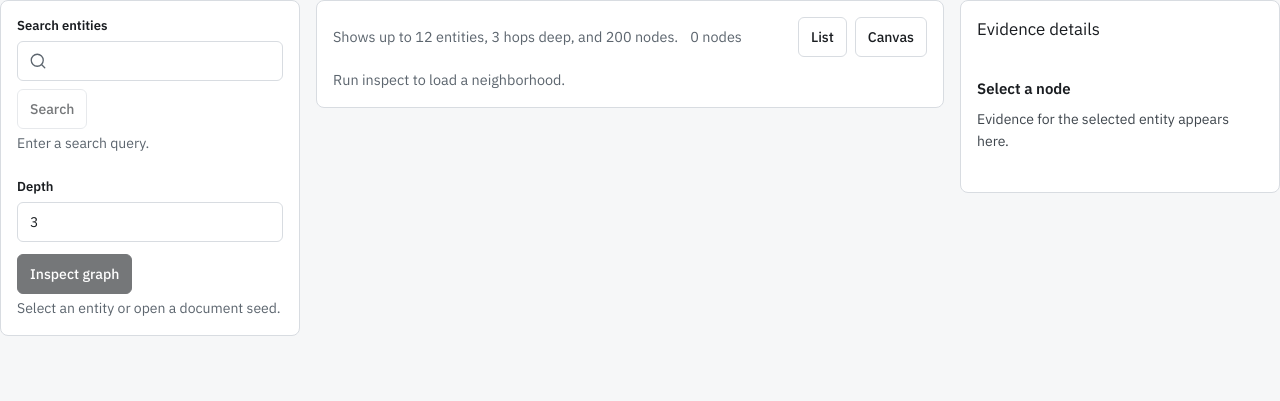
Test: GraphExplorer › shows empty inspect copy and truthful bounds
Type "acme" into the field labelled "Search entities".
click(150, 61); type("acme")  # box [17, 41, 283, 81]
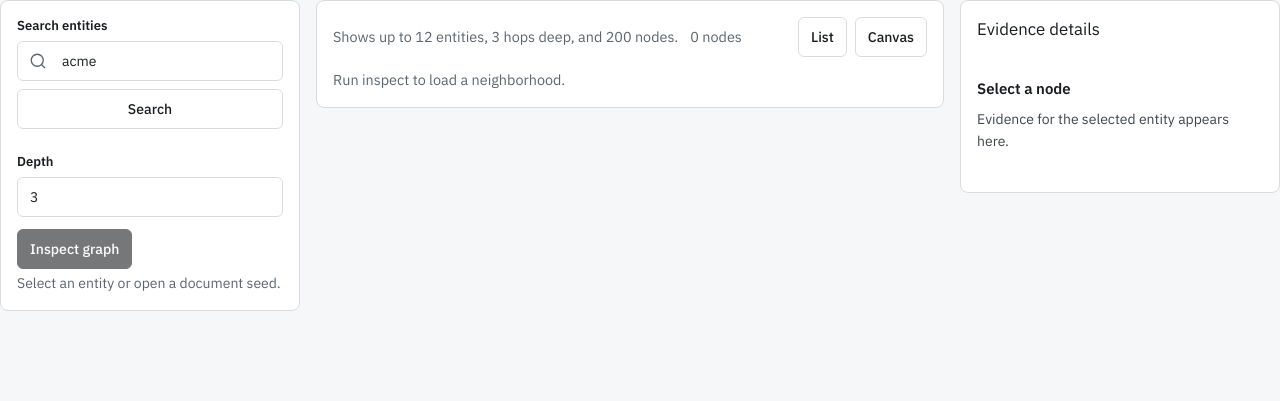
Click the button "Search".
click(150, 109)  # box [17, 89, 283, 129]
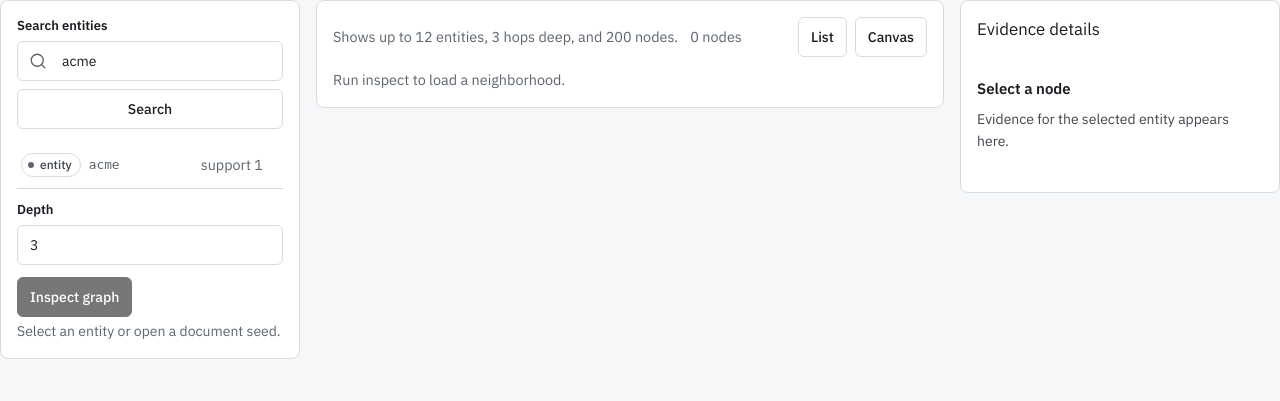
Click the button "entity acme support 1".
click(51, 164)  # box [17, 141, 283, 189]
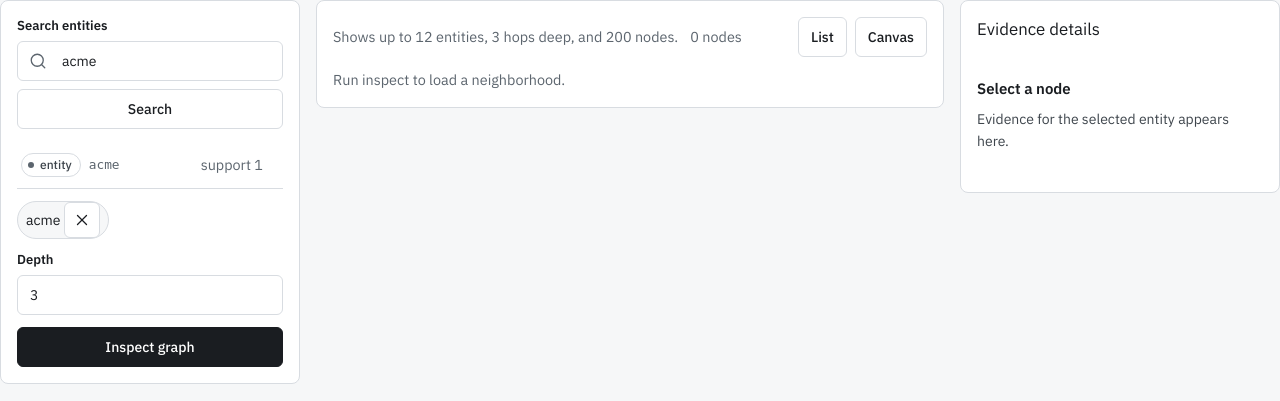
Click the button "Inspect graph".
click(150, 347)  # box [17, 327, 283, 367]
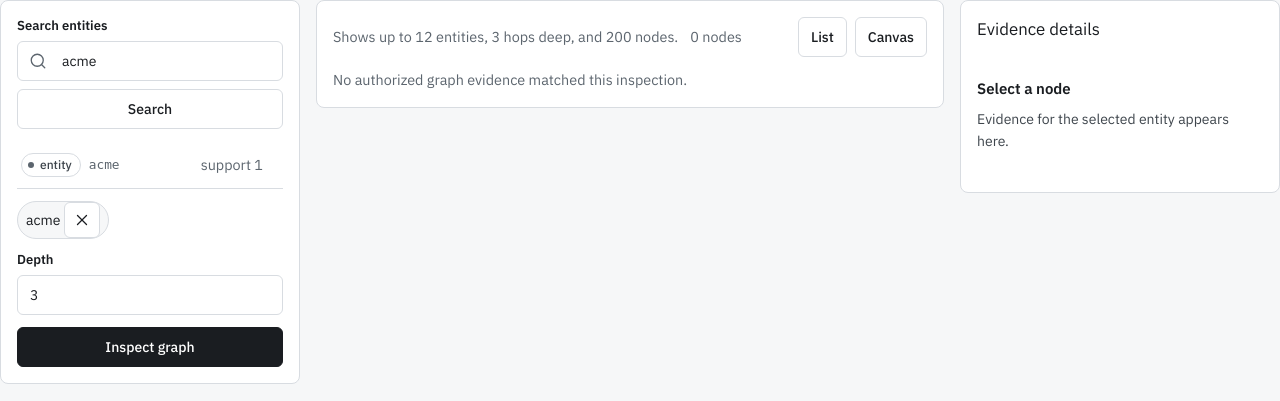
Expected: the text "Shows up to 12 entities, 3 hops deep, and 200 nodes." is shown, [333, 26, 678, 48]
Expected: the text "No authorized graph evidence matched this inspection." is shown, [333, 70, 687, 89]
